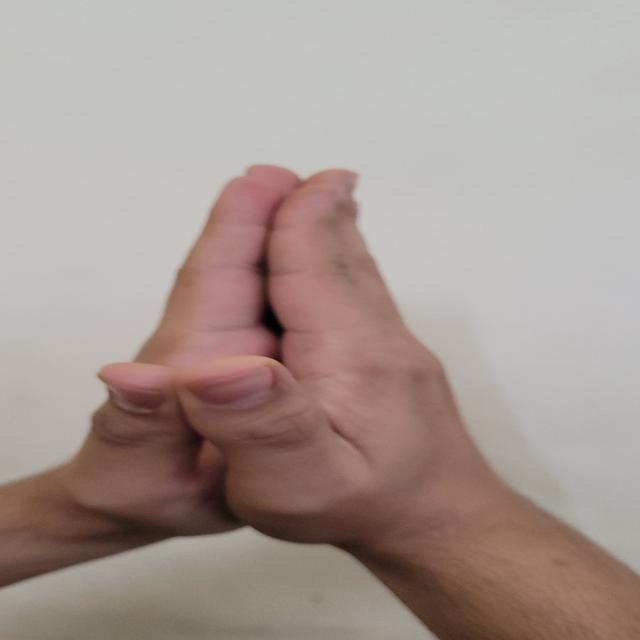Thank You: (55, 136, 529, 623)
